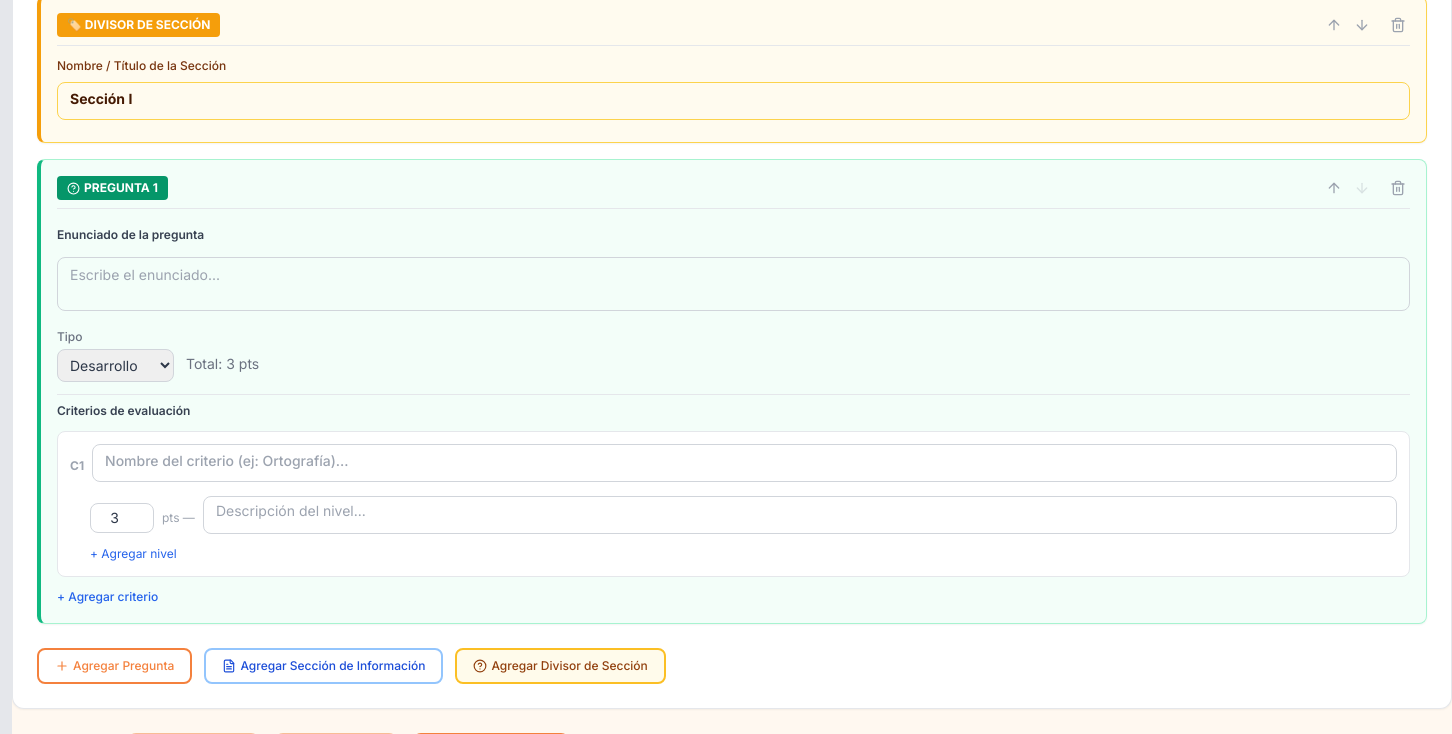
Test case: NuevaEvaluacionPage (Tiza) › elimina una pregunta y reenumera las restantes
(page scrolled)
Click the button "Agregar Pregunta" at coordinates (115, 666), box [37,648,192,684]
(page scrolled)
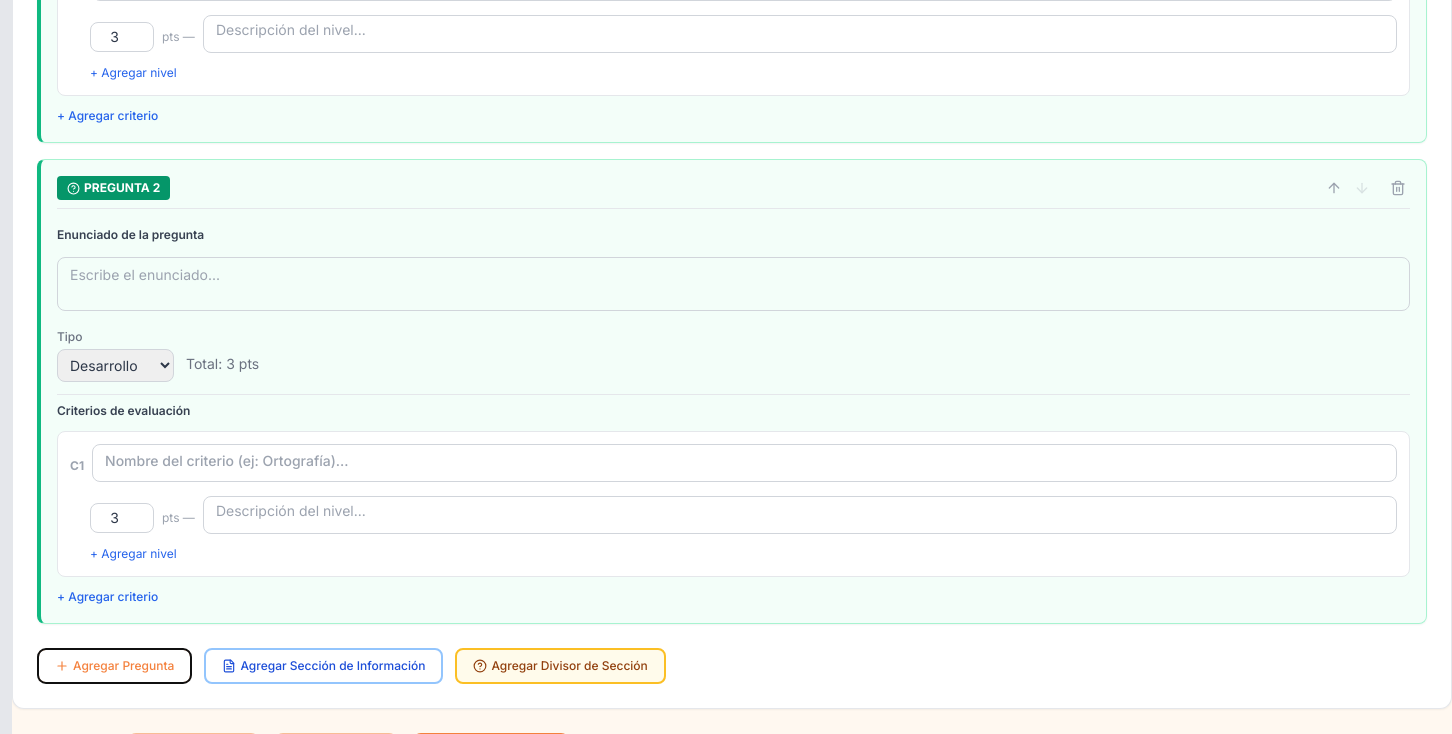
Click the button "Agregar Pregunta" at coordinates (115, 666), box [37,648,192,684]
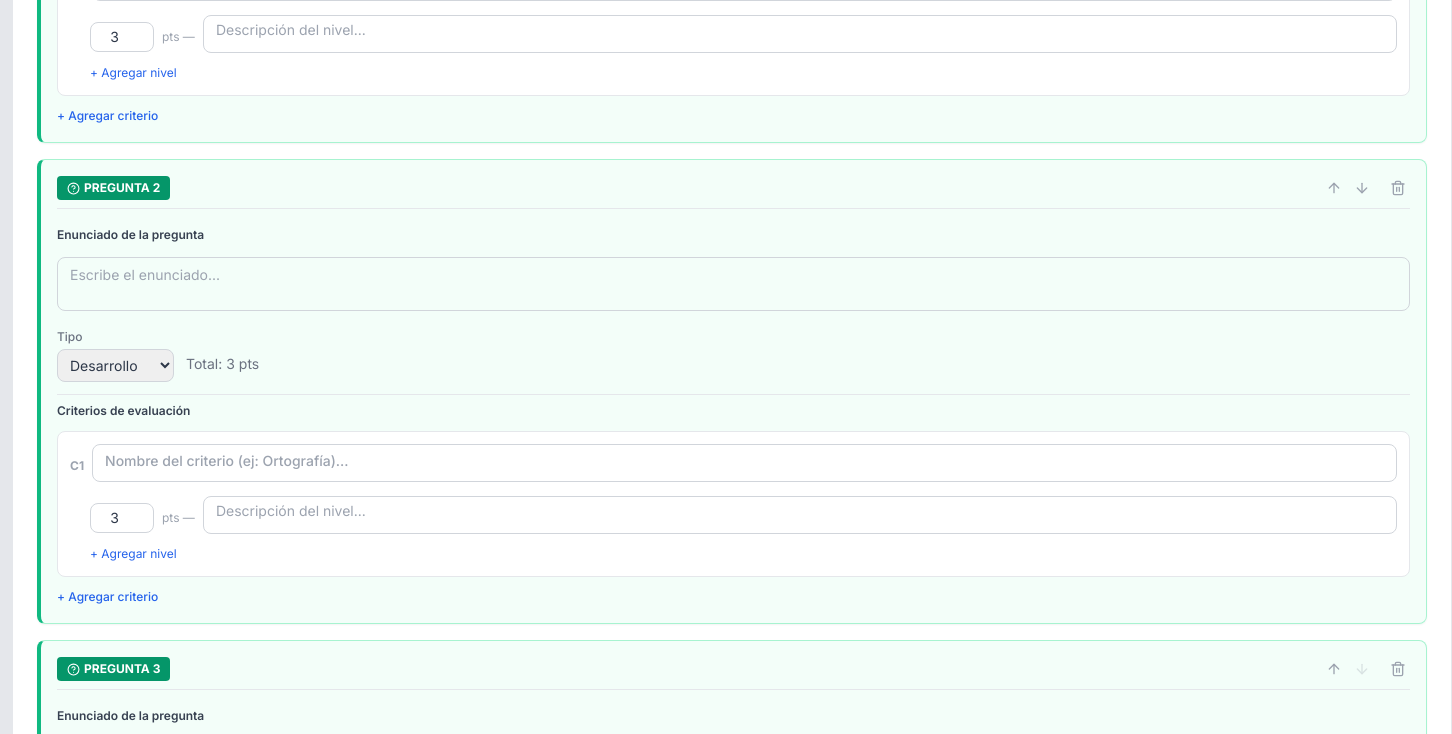
Check: the text "Pregunta 3" is shown, box [84,661,160,677]
Delete Pregunta 2 (index 3 in items: info, divider, q1, q2, q3)
Click the 1st button titled "Eliminar elemento" at coordinates (1398, 188), box [1386,176,1410,200]
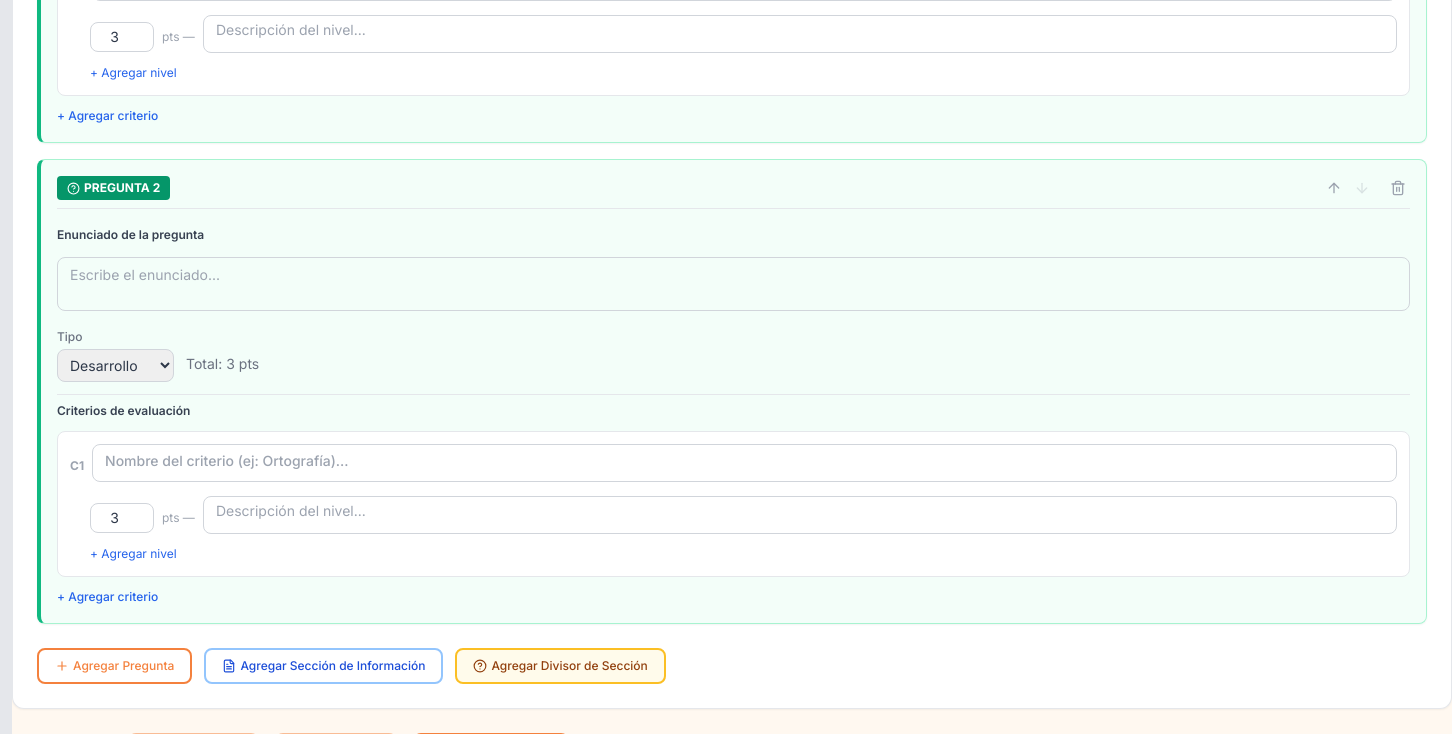
Check: the text "Pregunta 2" is shown, box [84,180,160,196]
Check: the text "Pregunta 3" is gone
